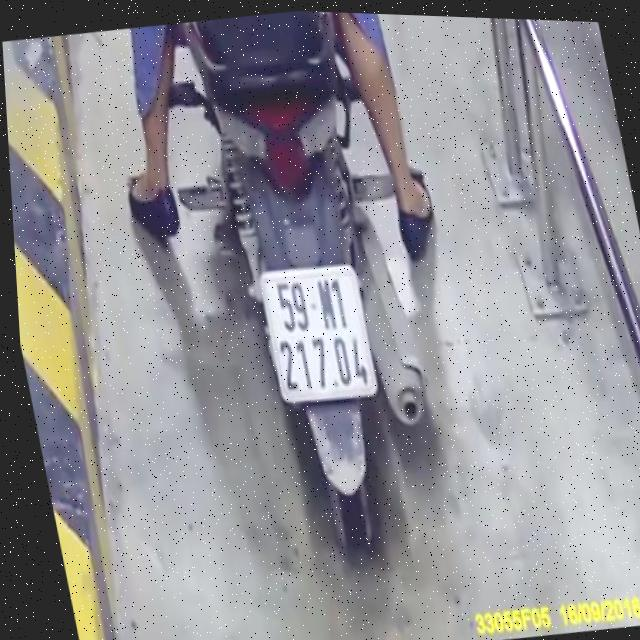motorcycle: (149, 6, 487, 585)
plate: (251, 254, 390, 414)
